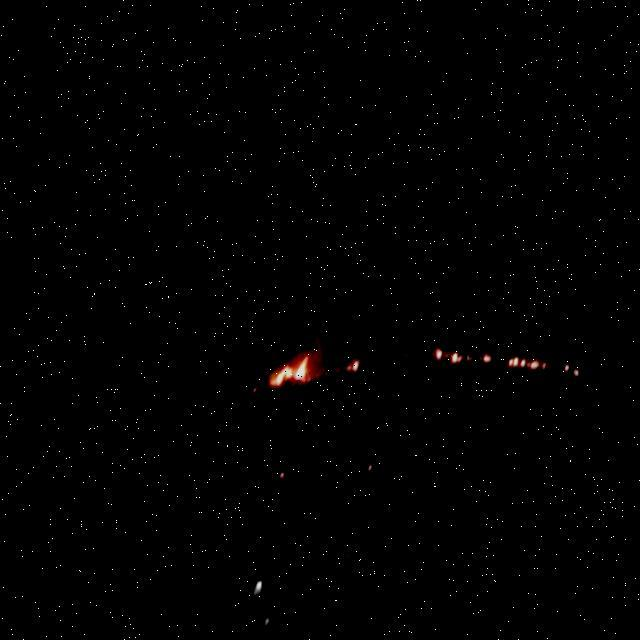Fire: (280, 359, 320, 392), (518, 358, 561, 378), (444, 348, 476, 368), (359, 360, 372, 374), (494, 354, 505, 368)
